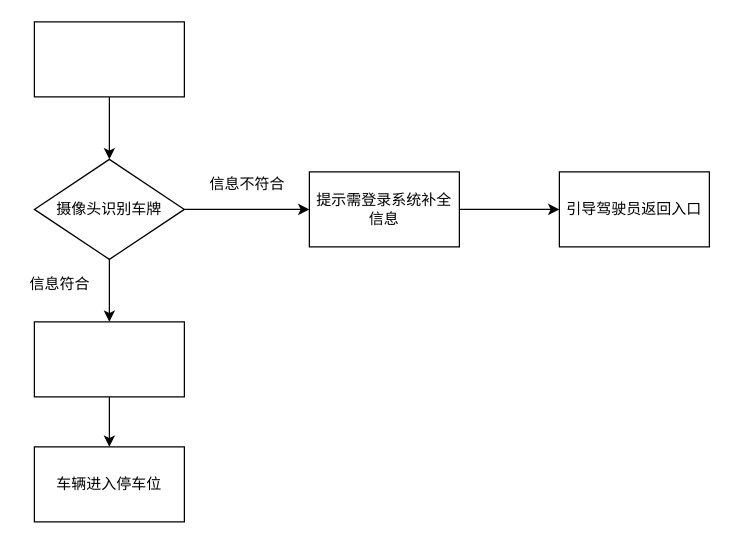
This 731x544 diagram has some shape labels left out. Here are the shapes that lost their labels. From the top down, the centre of each, then its label:
At [108,59]: "进场停车".
At [108,359]: "停车场道闸开启".
